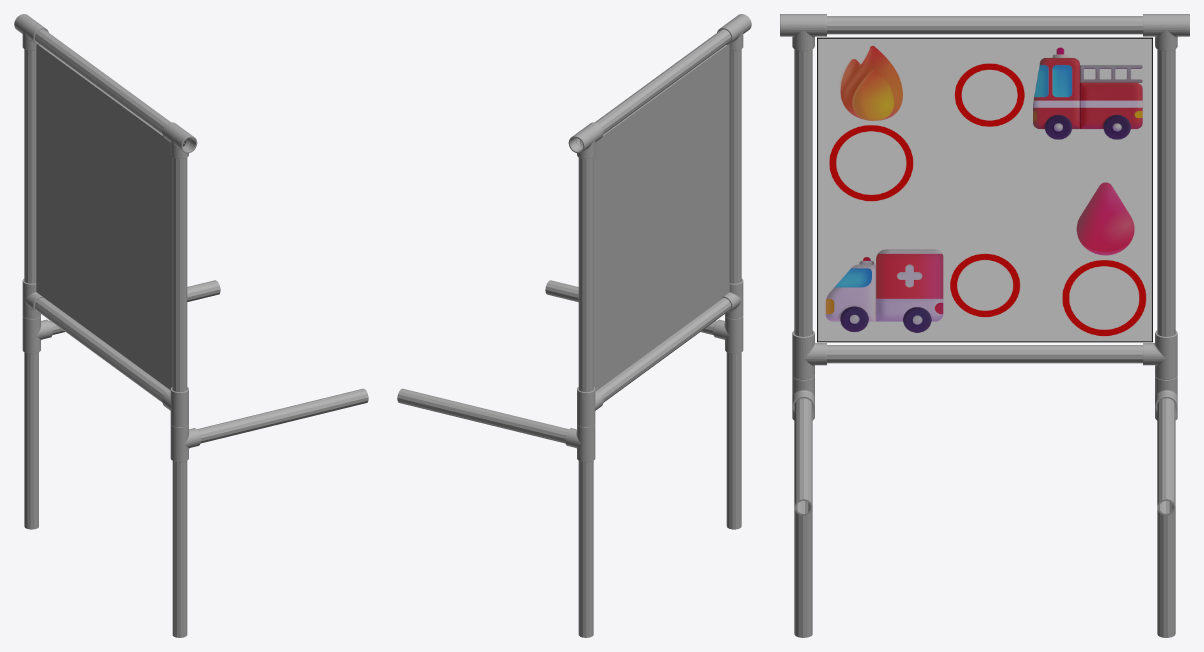
3 renders of one model, left to right at view 1: azimuth 30°, elevation 25°; view 2: azimuth 150°, elevation 25°; view 3: azimuth 270°, elevation 25°, orthographic. The views are drawn at different scales.
Visible parts, largest first — view 1: base_link; view 2: base_link; view 3: base_link.
Part boxes in pixels (bbox=[...]): base_link: bbox=[14, 14, 368, 637]; base_link: bbox=[397, 14, 751, 637]; base_link: bbox=[780, 14, 1189, 637].
Bounding box in the file's own units: 0.4957 × 0.7437 × 1.24.
2 materials, 1 textured.
